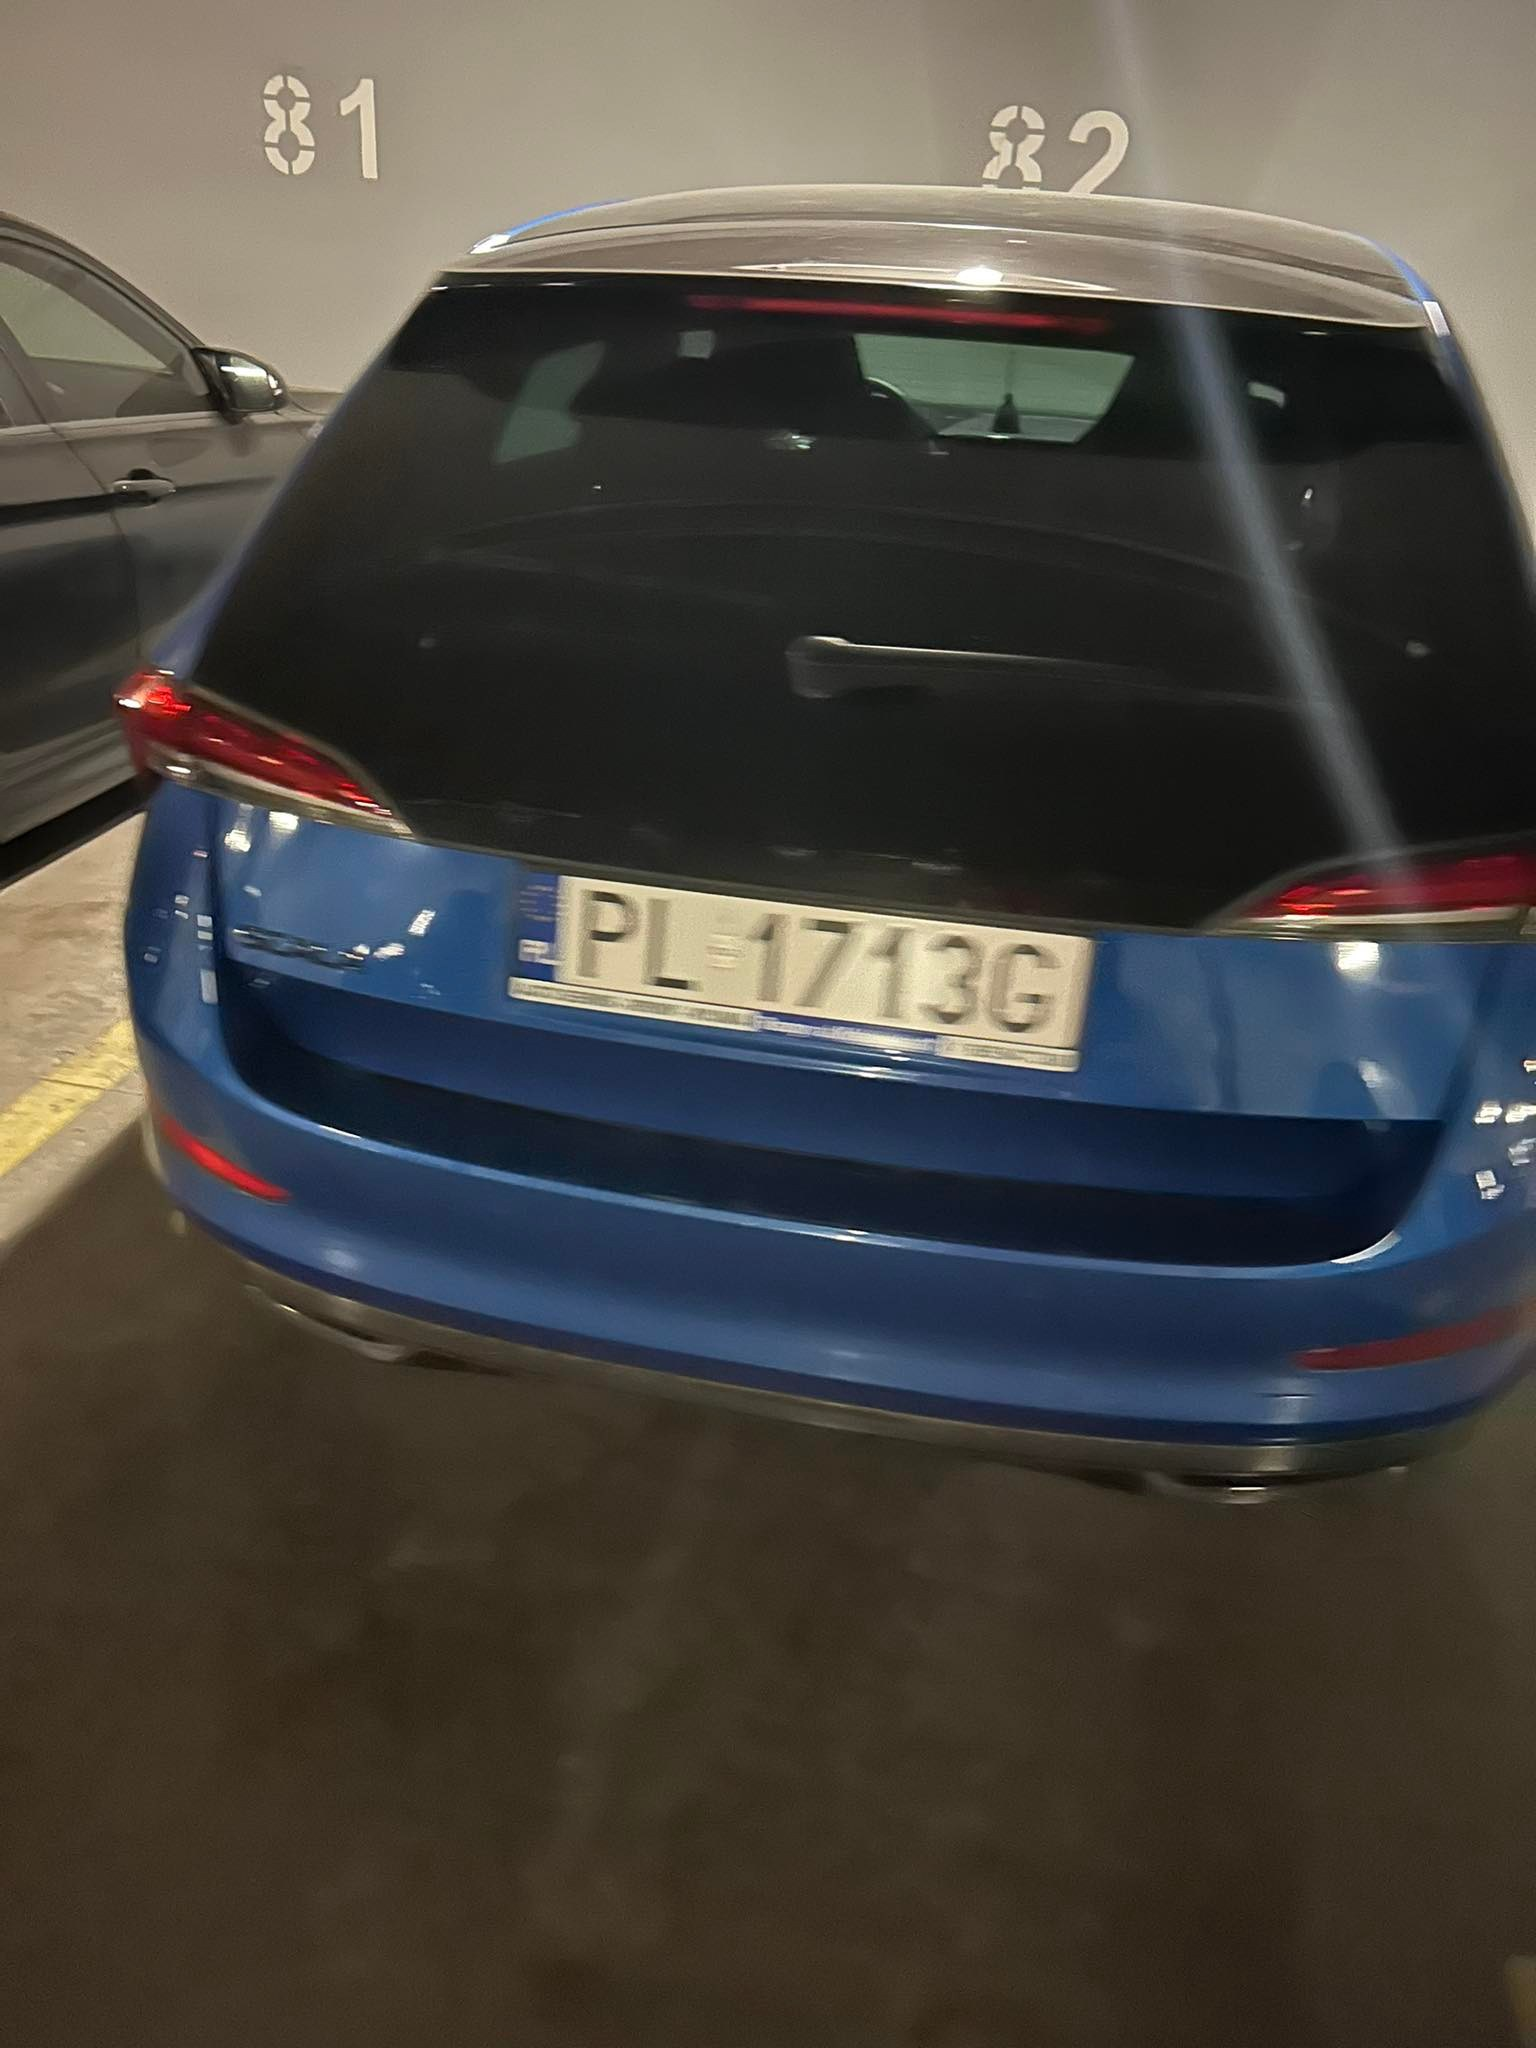number_plate: (508, 868, 1094, 1081)
